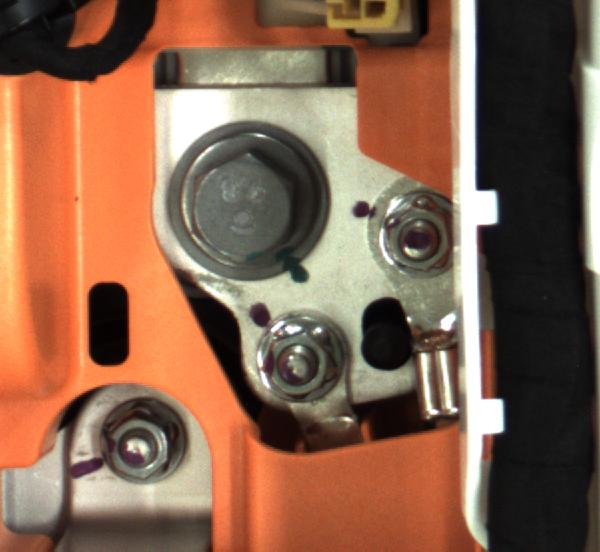nut_b: (157, 125, 332, 287)
screw_s: (370, 186, 467, 273), (249, 318, 353, 399), (101, 400, 191, 486)
